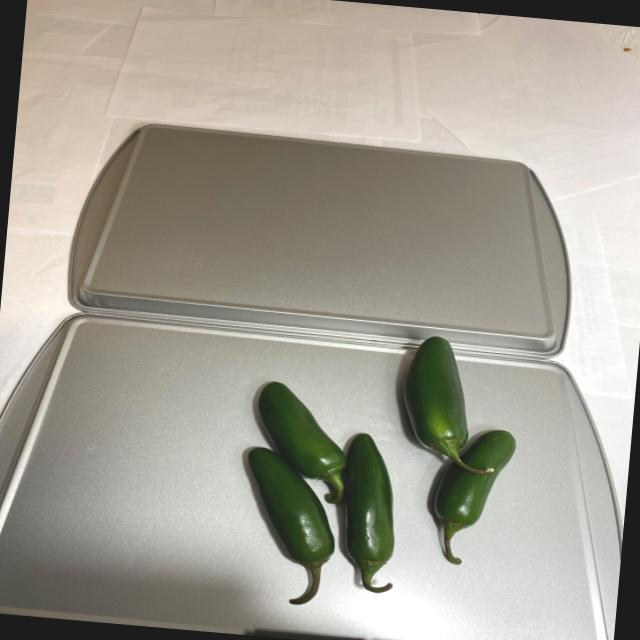chilli: (229, 315, 527, 627)
